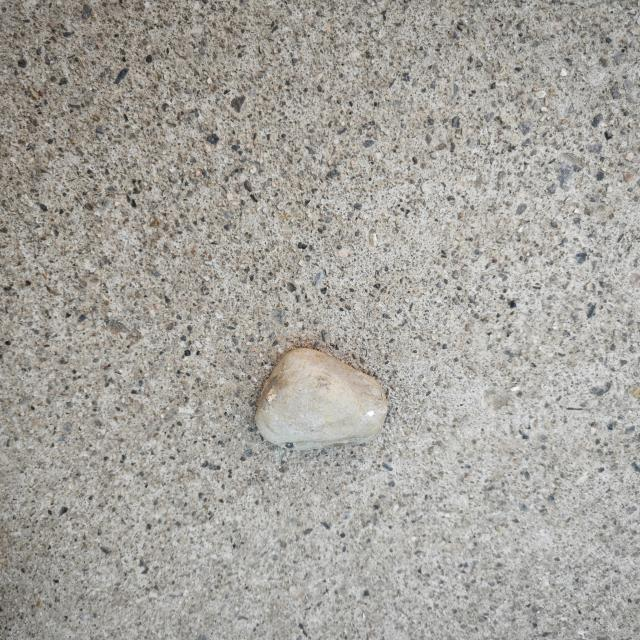-Other waste - pebble-: (259, 346, 389, 449)
